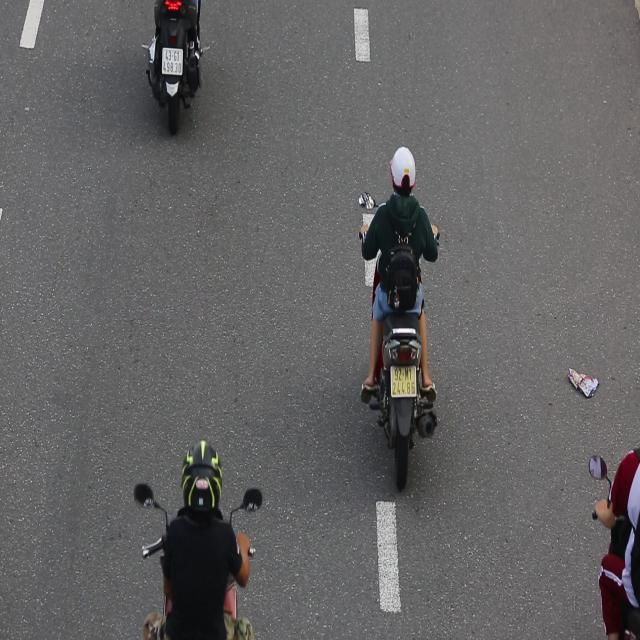motorbike: (345, 136, 443, 502)
